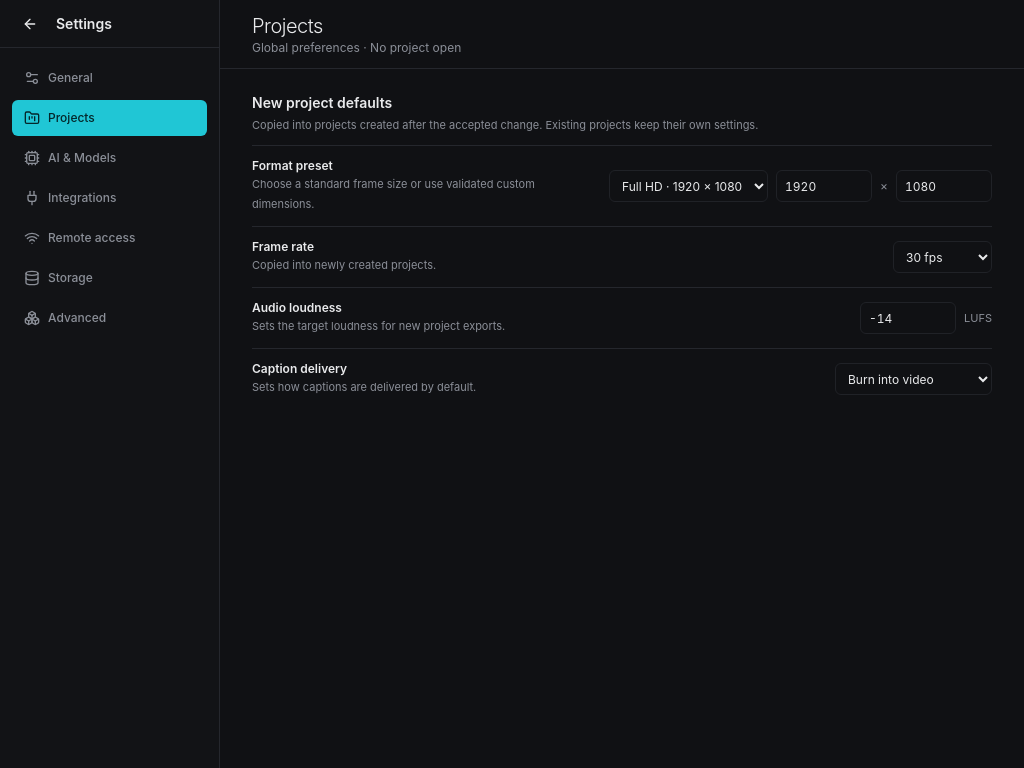
it: Settings integration owner › keeps the accepted project control state when Rust rejects a patch
Select "24 fps" in the dropdown named "Project frame rate" at [942, 257], box [893,241,992,273]
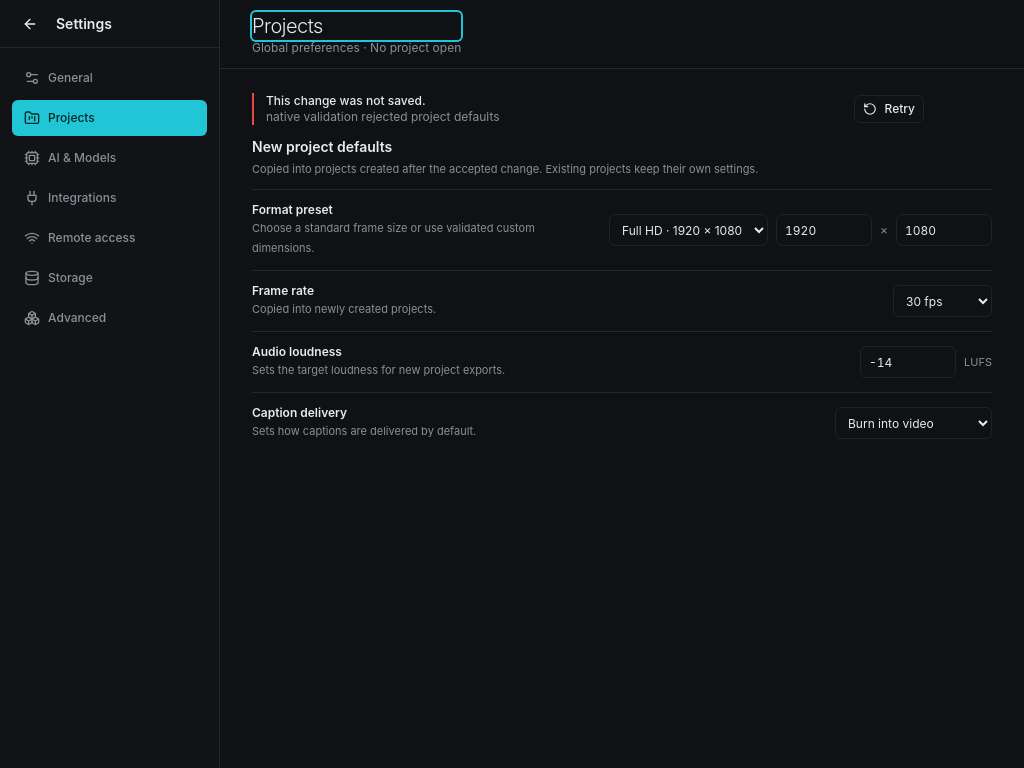
expect the message shows "native validation rejected project defaults": met, box [266,109,500,124]
